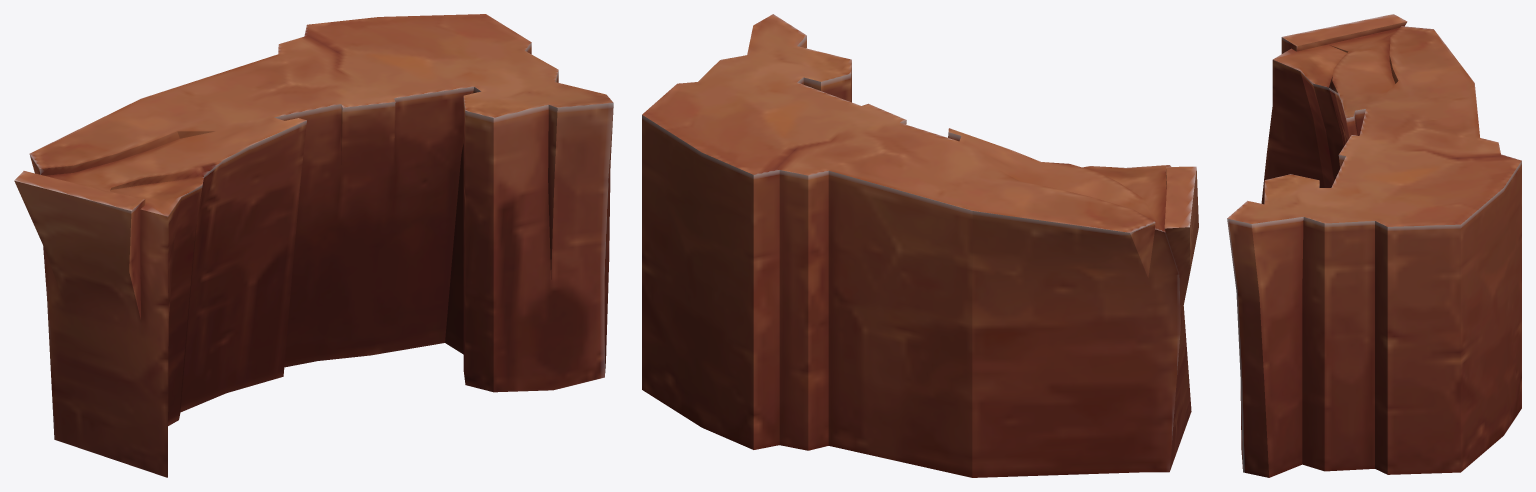
Rendered from shimen_rock.FBX.
The picture shows the model from 3 angles, left to right: view 1: azimuth 30°, elevation 25°; view 2: azimuth 150°, elevation 25°; view 3: azimuth 270°, elevation 25°; orthographic projection. The views are drawn at different scales.
Visible parts, largest first — view 1: shimen_rock; view 2: shimen_rock; view 3: shimen_rock.
Part boxes in pixels (x1,y1,x2,y2): shimen_rock: (14, 14, 613, 477); shimen_rock: (642, 14, 1198, 477); shimen_rock: (1227, 14, 1521, 477).
Size of the model in its own units: 16.29 by 8.37 by 8.79.
